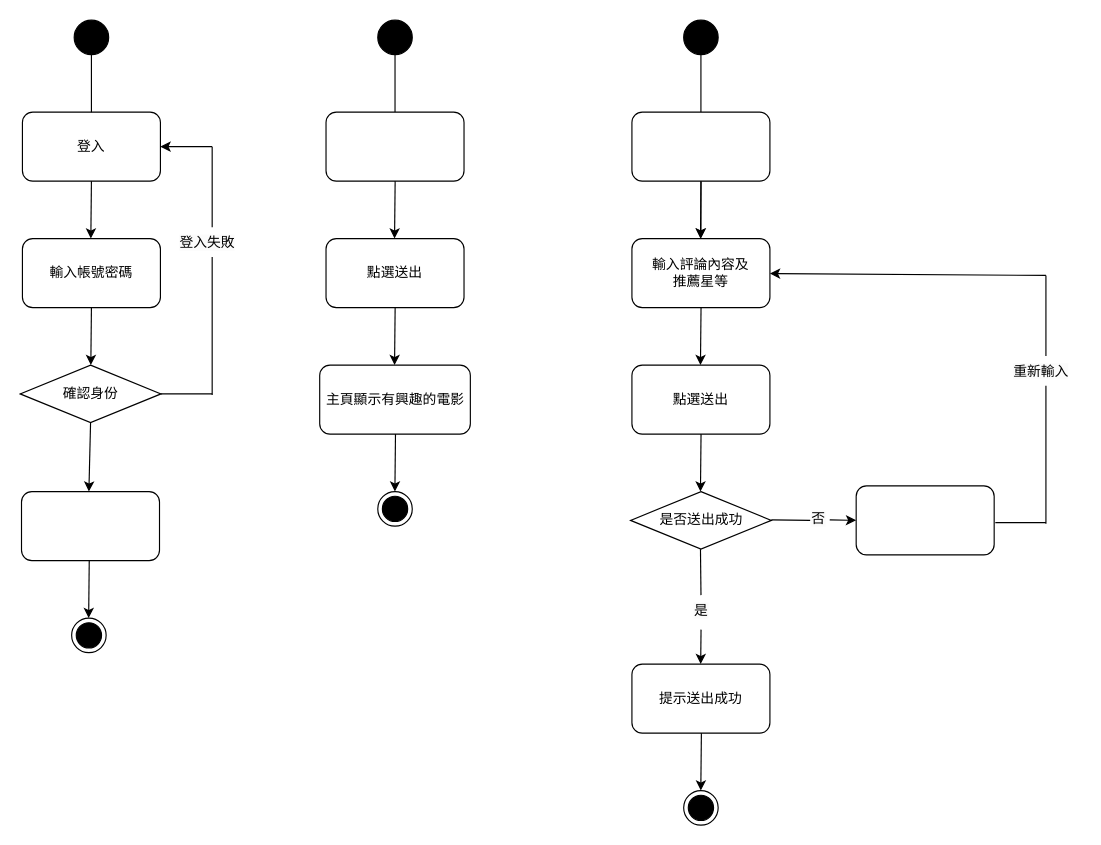
Image size: 1101x845. Some labels were removed from this diagram. Here are the shapes that lost their labels. From the top down, the centre of each, then its label:
At point 394,146: "選擇有興趣的主題".
At point 700,146: "選擇影片".
At point 90,525: "登入成功".
At point 924,520: "提示送出失敗".
